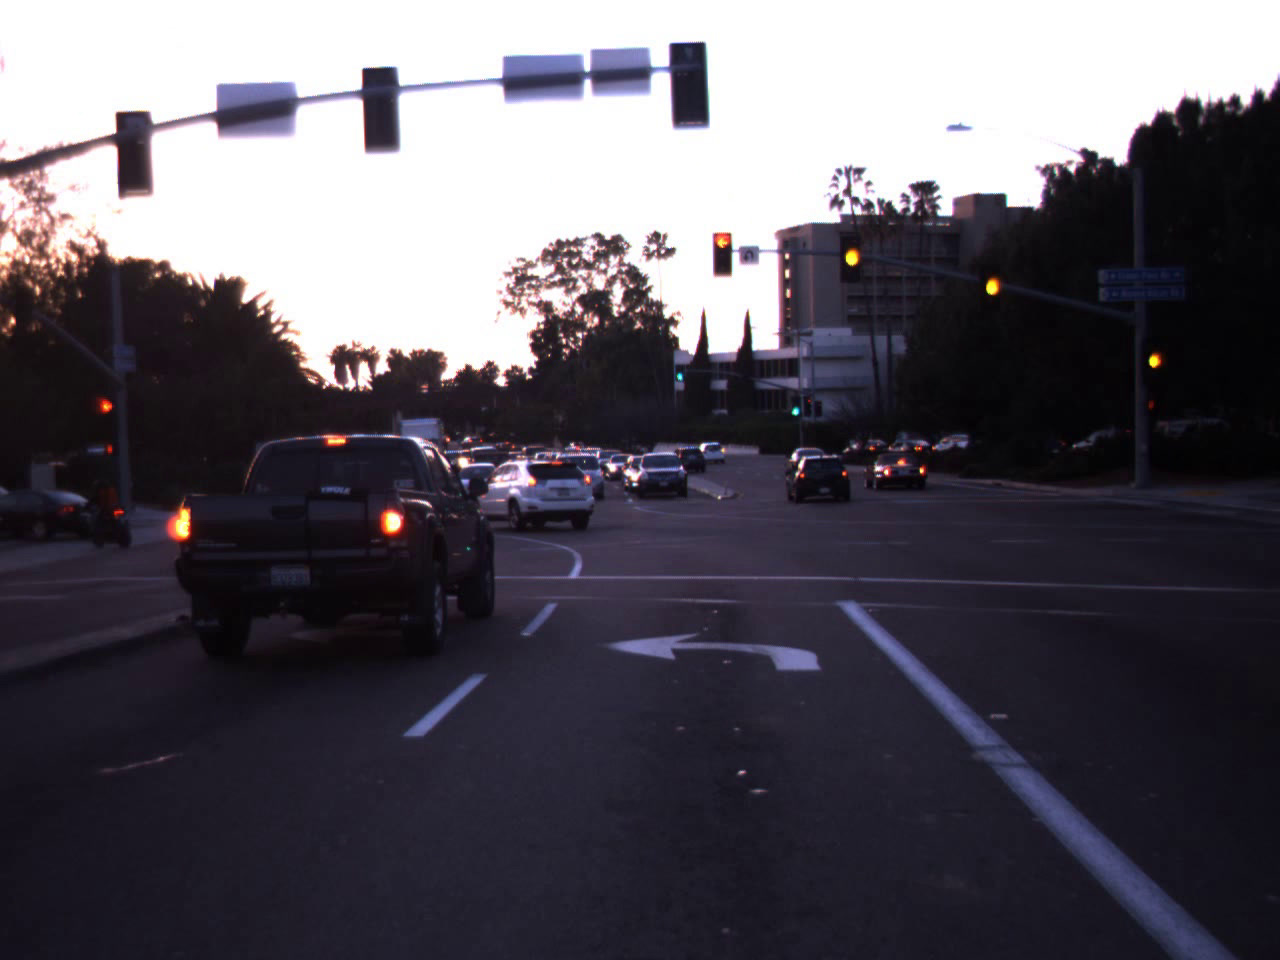go: (790, 383, 802, 418), (674, 357, 686, 382)
stop: (698, 226, 746, 289), (92, 395, 122, 444)
warning: (834, 220, 870, 287), (976, 252, 1009, 315), (1142, 334, 1166, 383)
